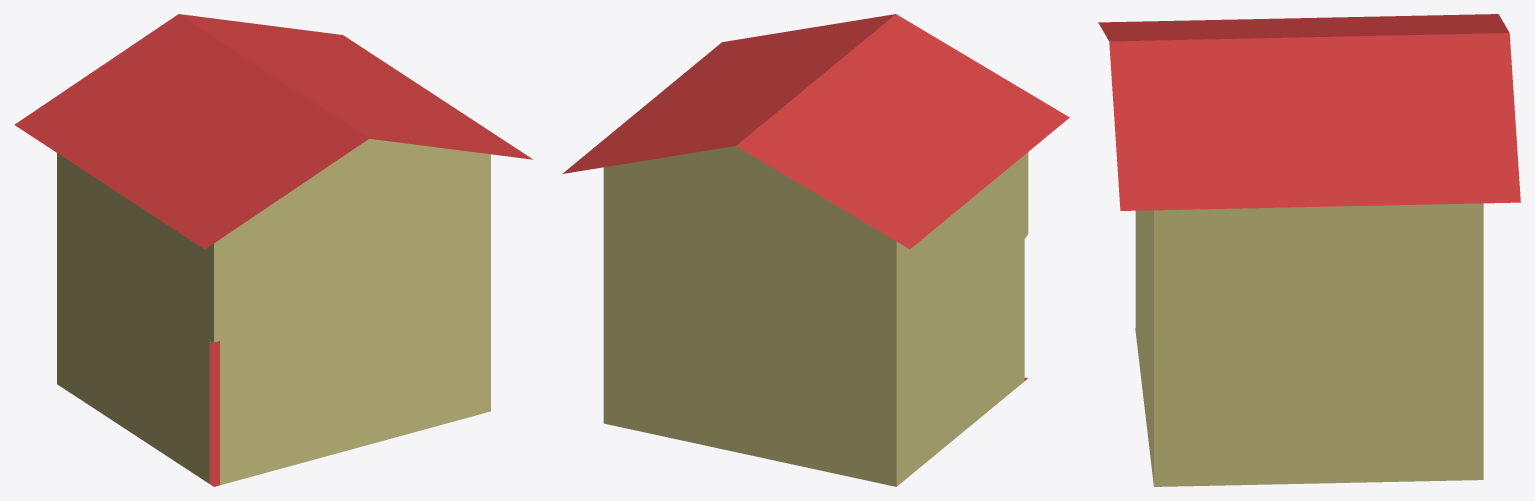
3 views of the same model, side by side, from view 1: azimuth 30°, elevation 25°; view 2: azimuth 150°, elevation 25°; view 3: azimuth 270°, elevation 25° (orthographic). The views are drawn at different scales.
Parts seen in each view (by area): view 1: group_5, group_3, group_4, group_6; view 2: group_5, group_3, group_4; view 3: group_5, group_3, group_4.
Boxes of the visible parts, <box> form: group_5: <box>57,138,490,485</box>; group_3: <box>14,14,532,220</box>; group_4: <box>15,14,531,249</box>; group_6: <box>209,341,219,486</box>; group_5: <box>603,146,1028,486</box>; group_3: <box>604,14,1027,249</box>; group_4: <box>562,14,1069,248</box>; group_5: <box>1135,203,1483,486</box>; group_3: <box>1109,14,1518,210</box>; group_4: <box>1098,14,1520,210</box>.
Size of the model in its own units: 13.18 by 11.95 by 11.44.
